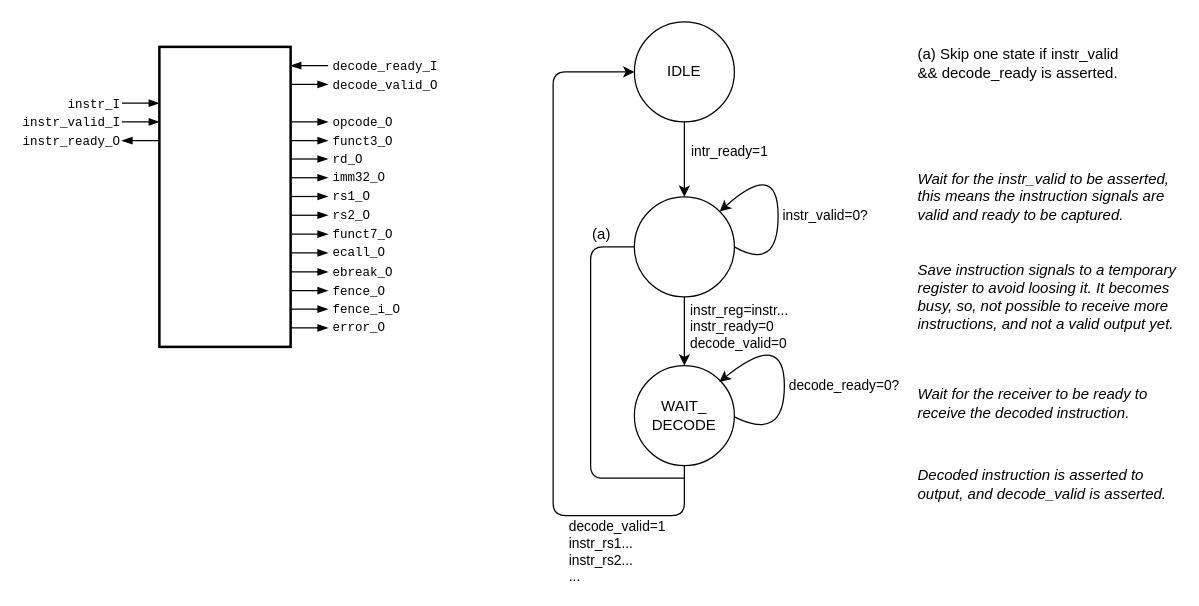
This 1199x606 diagram has some shape labels left out. The shapes that lost their labels are listed below. From the top down, each one's box as (x1, y1, x2, y2) in pixels, then its label:
(158, 45, 291, 348): Instruction Decoder
(633, 196, 734, 297): WAIT_ INSTR
